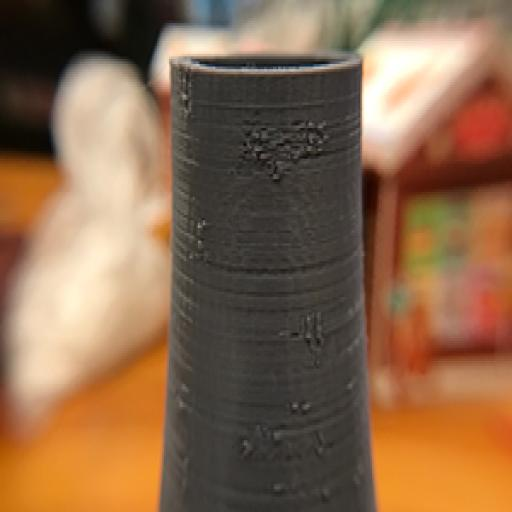blobs: (238, 100, 331, 182), (234, 395, 337, 464), (279, 310, 324, 364)
